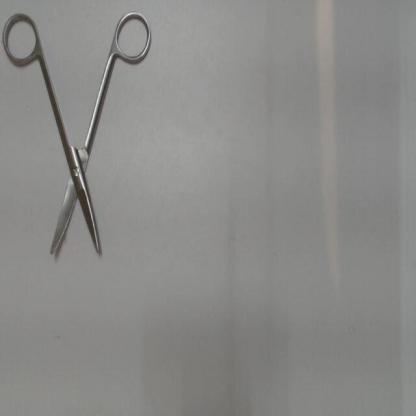Curved Mayo Scissors: (1, 4, 161, 272)
